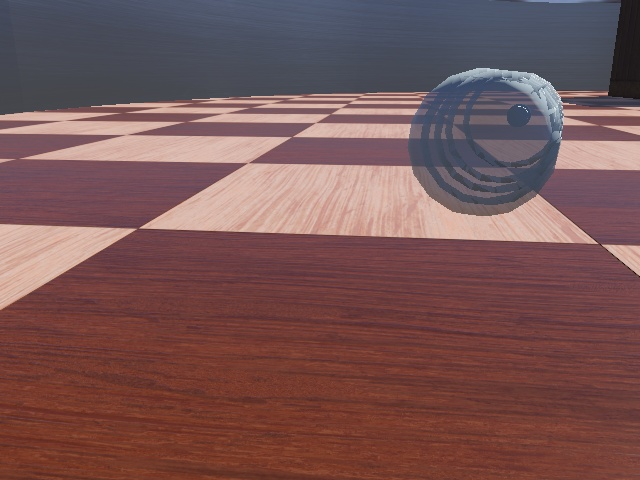chai_nhua: (411, 66, 562, 215)
